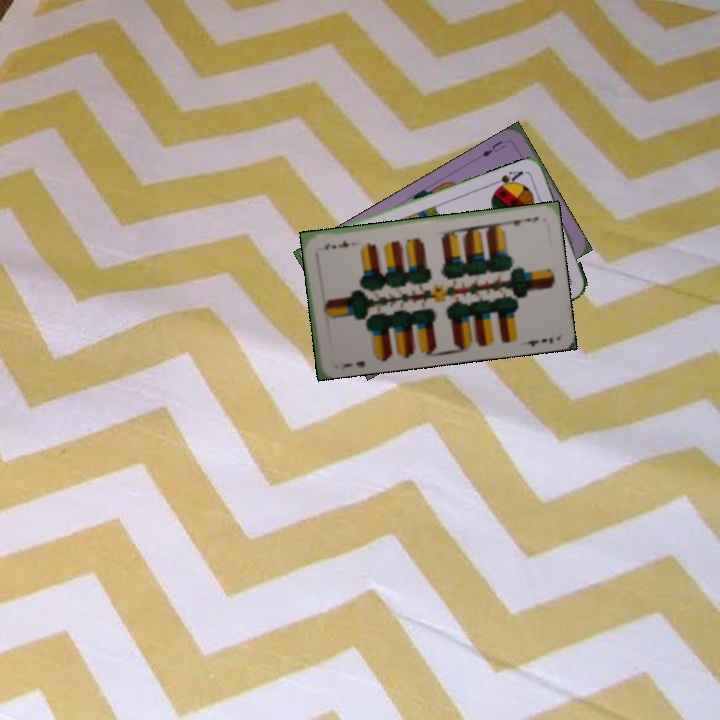E7: (503, 213, 541, 228), (337, 357, 367, 371)
EU: (478, 137, 508, 159)
SA: (490, 167, 526, 192)
